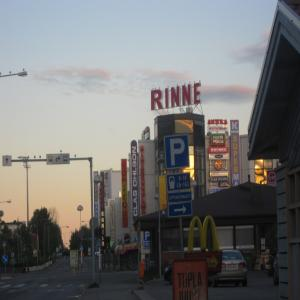Vehicle-registration-plate: (229, 265, 238, 269)
